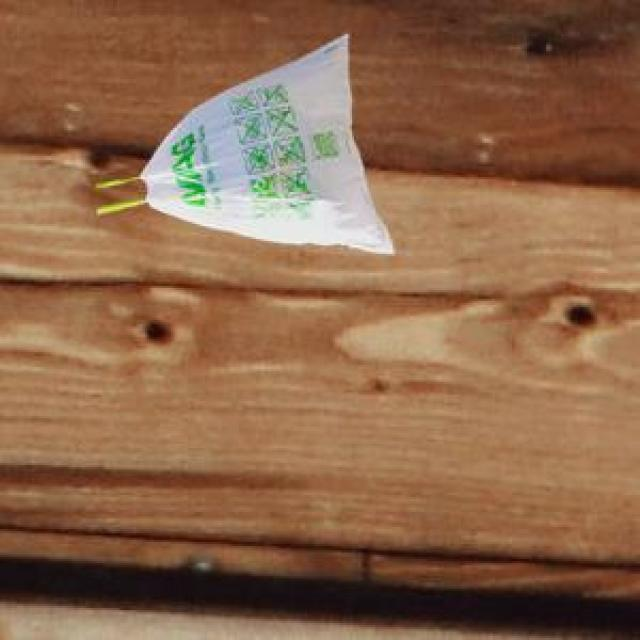plastic: (64, 26, 475, 374)
